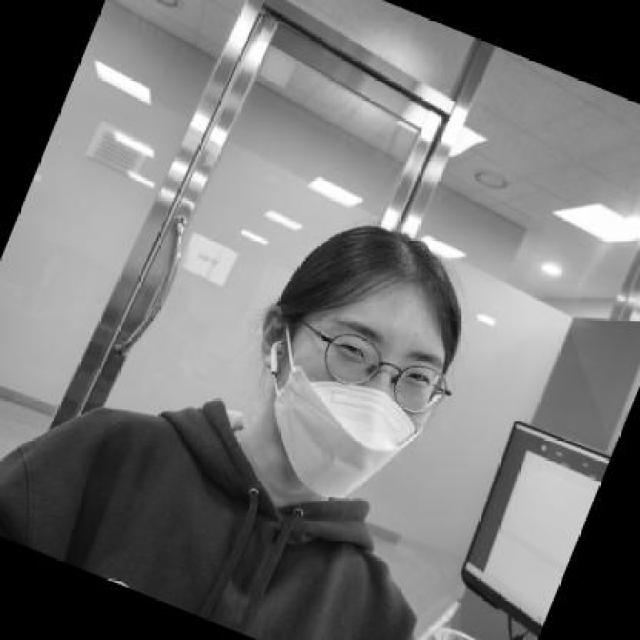earphone: (244, 334, 309, 384)
